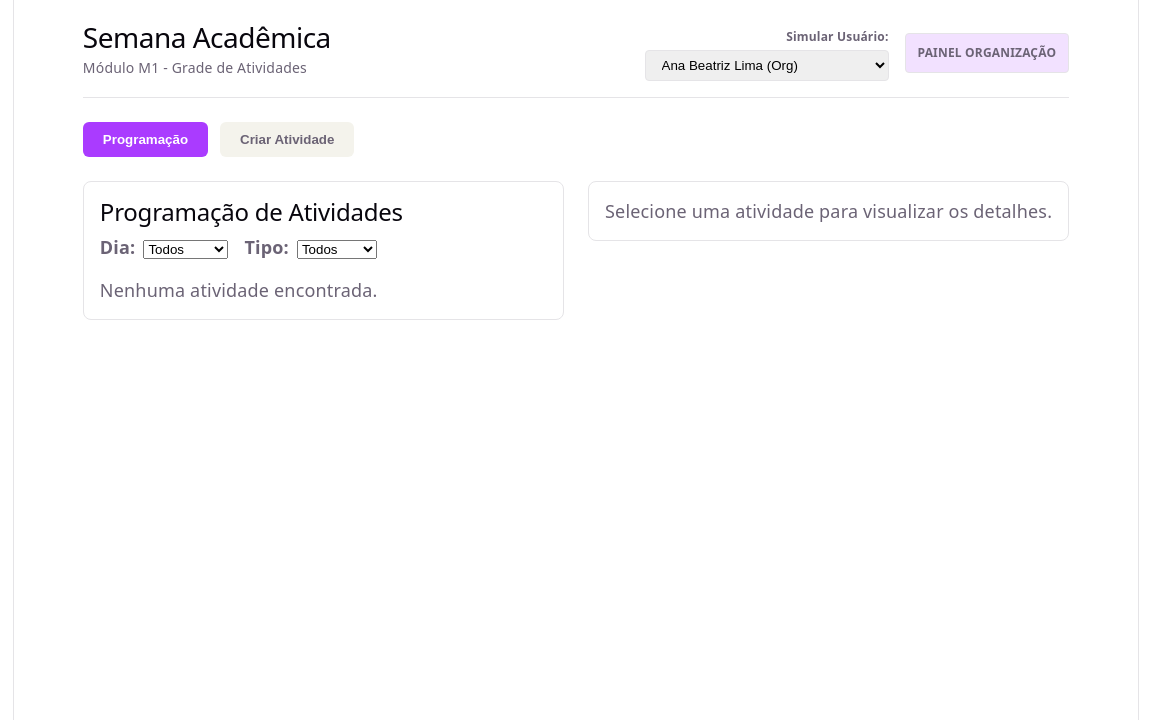
Test: App Integration › deve alternar entre paginas de programacao e criacao de atividades
The width and height of the screenshot is (1152, 720).
Step 1. Click the button with test id "nav-criar" → (287, 140), box [220, 122, 354, 157]
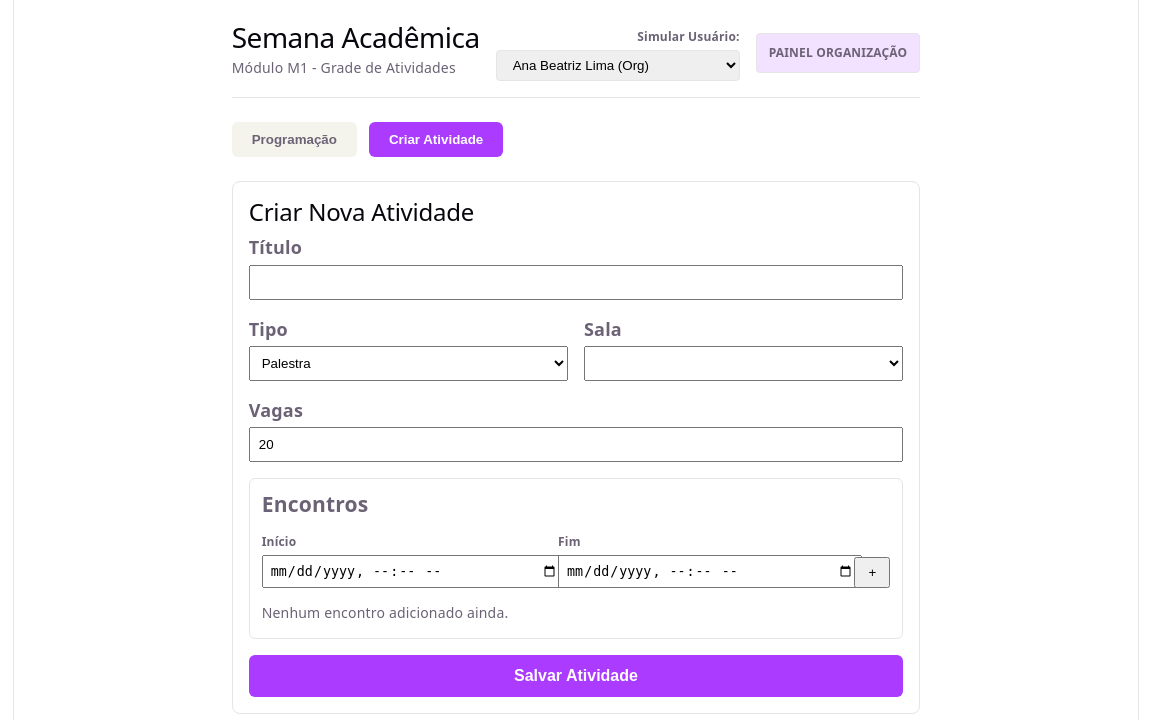
Result: the heading "Criar Nova Atividade" is shown at [249, 195, 474, 228]
Step 2. Click the button with test id "nav-grade" → (294, 140), box [232, 122, 357, 157]
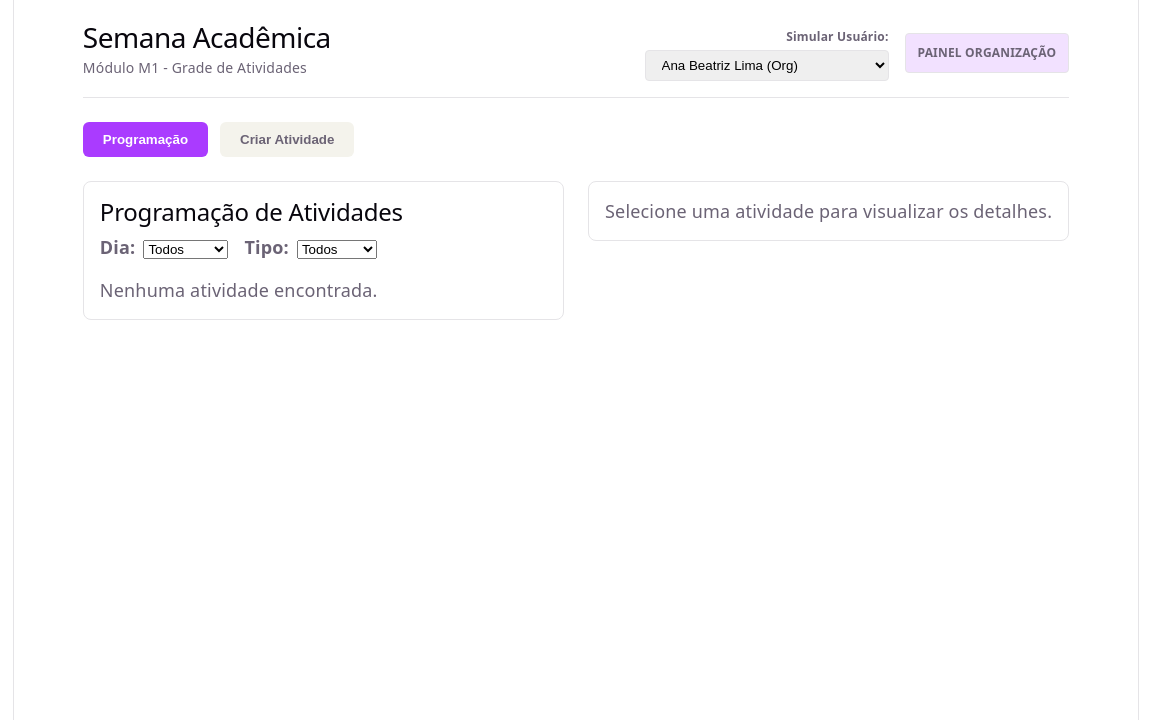
Result: the heading "Programação de Atividades" is shown at [100, 195, 403, 228]
